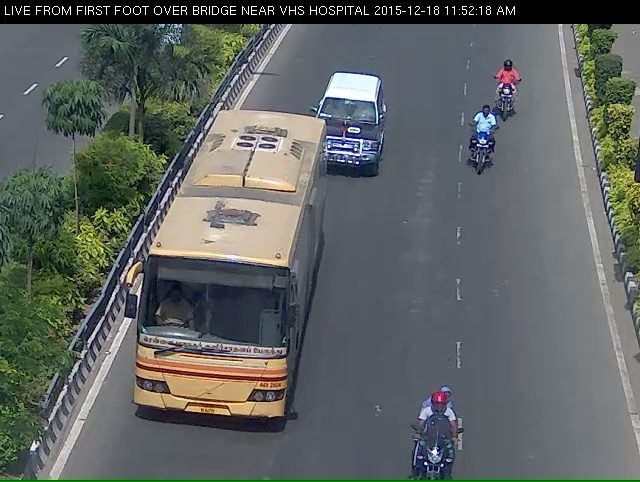Bus: (130, 128, 305, 468)
Car: (307, 86, 382, 194)
Person: (417, 420, 470, 481), (493, 68, 525, 128), (467, 122, 495, 190)
